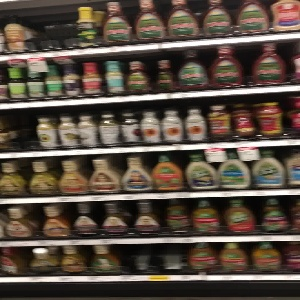void: (119, 239, 185, 278), (31, 4, 78, 52), (7, 108, 36, 152)
